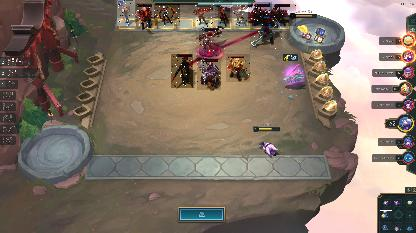1_aphelios: (117, 0, 135, 26)
1_braum: (248, 2, 272, 26), (270, 4, 296, 26)
1_hecarim: (136, 3, 152, 29)
1_nilah: (199, 26, 219, 56)
1_qiyana: (154, 4, 180, 26)
1_rakan: (218, 6, 230, 28)
1_rell: (171, 54, 193, 88)
1_senna: (195, 4, 215, 28)
1_volibear: (226, 54, 250, 82)
2_rengar: (250, 14, 282, 50)
2_sejuani: (197, 58, 221, 90)
2_senna: (232, 2, 254, 26)
